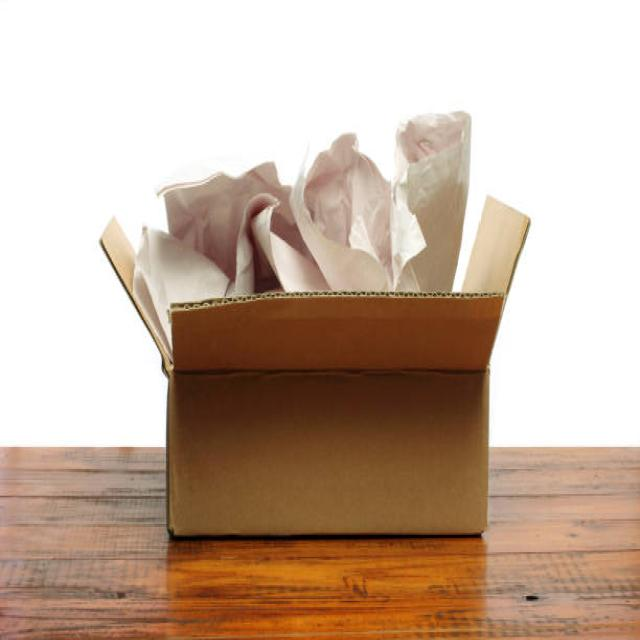electronic: (100, 108, 532, 538), (130, 108, 473, 356), (290, 130, 426, 292), (156, 158, 290, 295), (390, 108, 472, 292), (131, 224, 230, 358), (250, 200, 330, 294), (460, 193, 530, 295)
